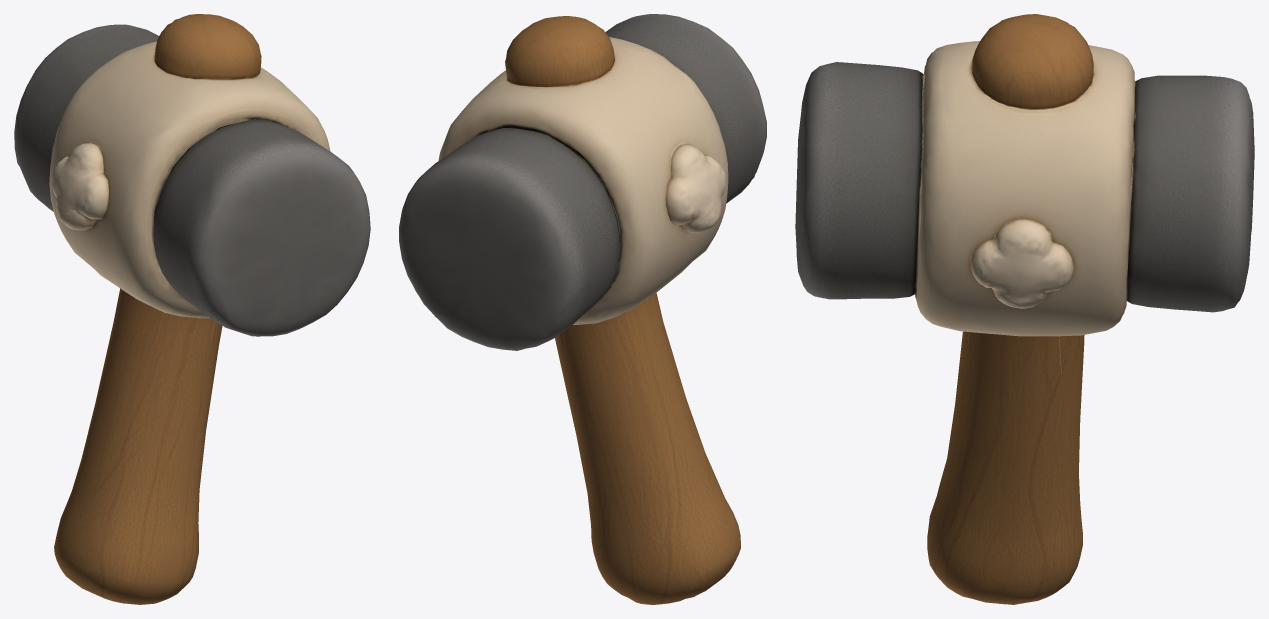
Rendered from hammer_mem.fbx.
3 views of the same model, side by side, from view 1: azimuth 30°, elevation 25°; view 2: azimuth 150°, elevation 25°; view 3: azimuth 270°, elevation 25° (orthographic). The views are drawn at different scales.
Visible parts, largest first — view 1: tripo_node_0915877e; view 2: tripo_node_0915877e; view 3: tripo_node_0915877e.
Part boxes in pixels (bbox=[...]): tripo_node_0915877e: bbox=[14, 14, 370, 604]; tripo_node_0915877e: bbox=[399, 14, 766, 604]; tripo_node_0915877e: bbox=[795, 14, 1254, 604].
Bounding box in the file's own units: 0.498 × 0.998 × 0.6738.
